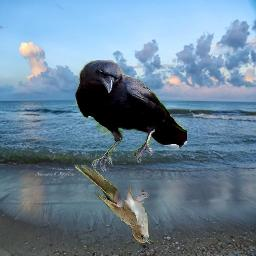Crow: (75, 60, 187, 172)
Cuckoo: (75, 164, 156, 244)
